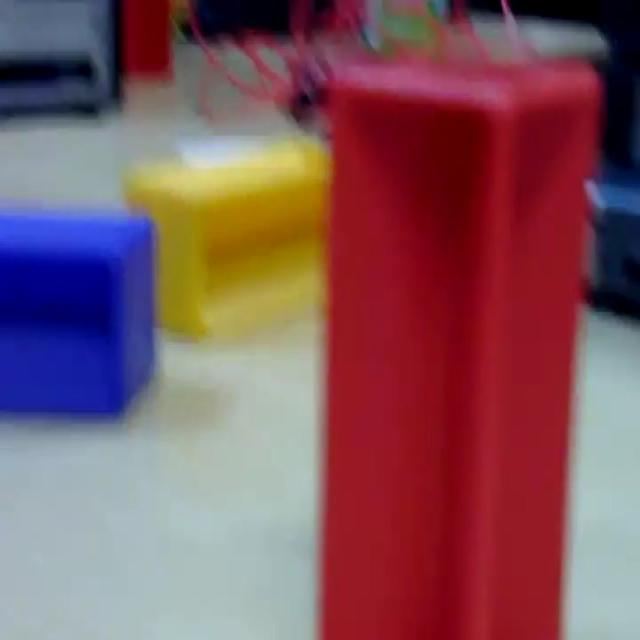blue_block: (0, 204, 156, 419)
red_block: (317, 48, 604, 636)
yellow_block: (123, 135, 331, 340)
